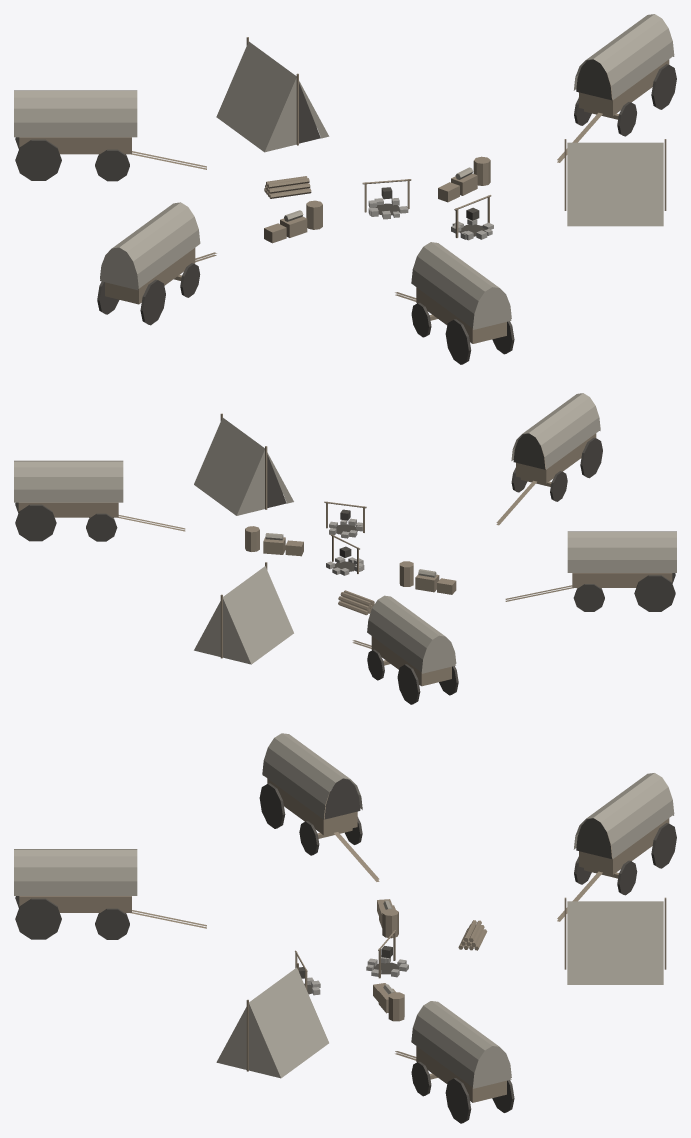
The model's file is west_approach_wagon_camp__camp_1835.glb.
3 views of the same model, one above another, from view 1: azimuth 30°, elevation 25°; view 2: azimuth 150°, elevation 25°; view 3: azimuth 270°, elevation 25° (orthographic). The views are drawn at different scales.
Parts seen in each view (by area): view 1: west_approach_wagon_camp__camp_1835; view 2: west_approach_wagon_camp__camp_1835; view 3: west_approach_wagon_camp__camp_1835.
Part boxes in pixels (x1=…): west_approach_wagon_camp__camp_1835: x1=14, y1=14, x2=676, y2=364; west_approach_wagon_camp__camp_1835: x1=14, y1=393, x2=676, y2=704; west_approach_wagon_camp__camp_1835: x1=14, y1=733, x2=676, y2=1123.
Size of the model in its own units: 21.71 by 2.5 by 18.84.
